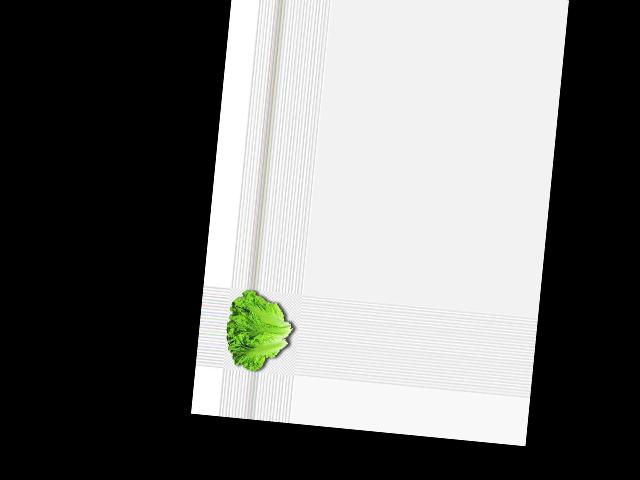lettuce: (223, 290, 297, 376)
